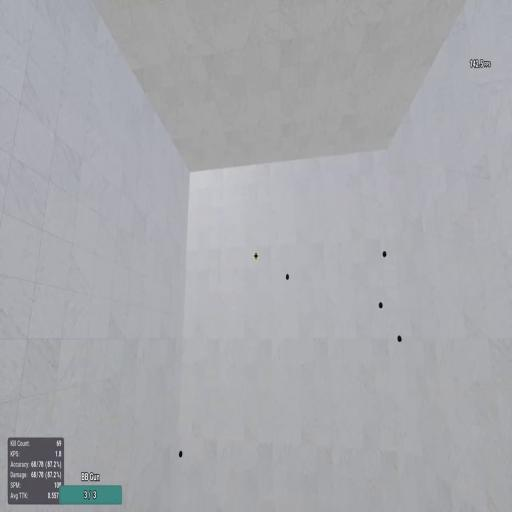Crosshair: (254, 250, 258, 261)
Target: (178, 449, 184, 458), (382, 249, 387, 259), (378, 301, 384, 309), (397, 334, 402, 343), (286, 272, 290, 282)
